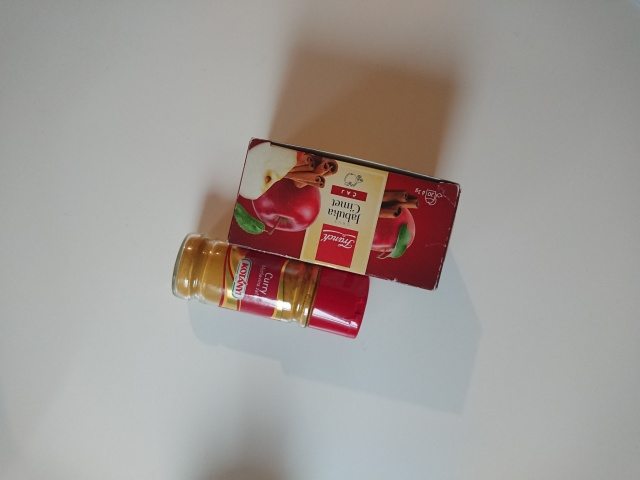Franck Apple Cinnamon Tea 60g: (224, 134, 465, 294)
Kotanyi Curry Spices Mix 70g: (169, 230, 372, 342)
